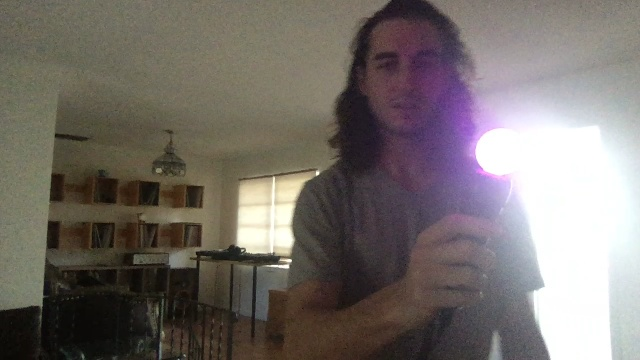wand: (476, 129, 525, 176)
